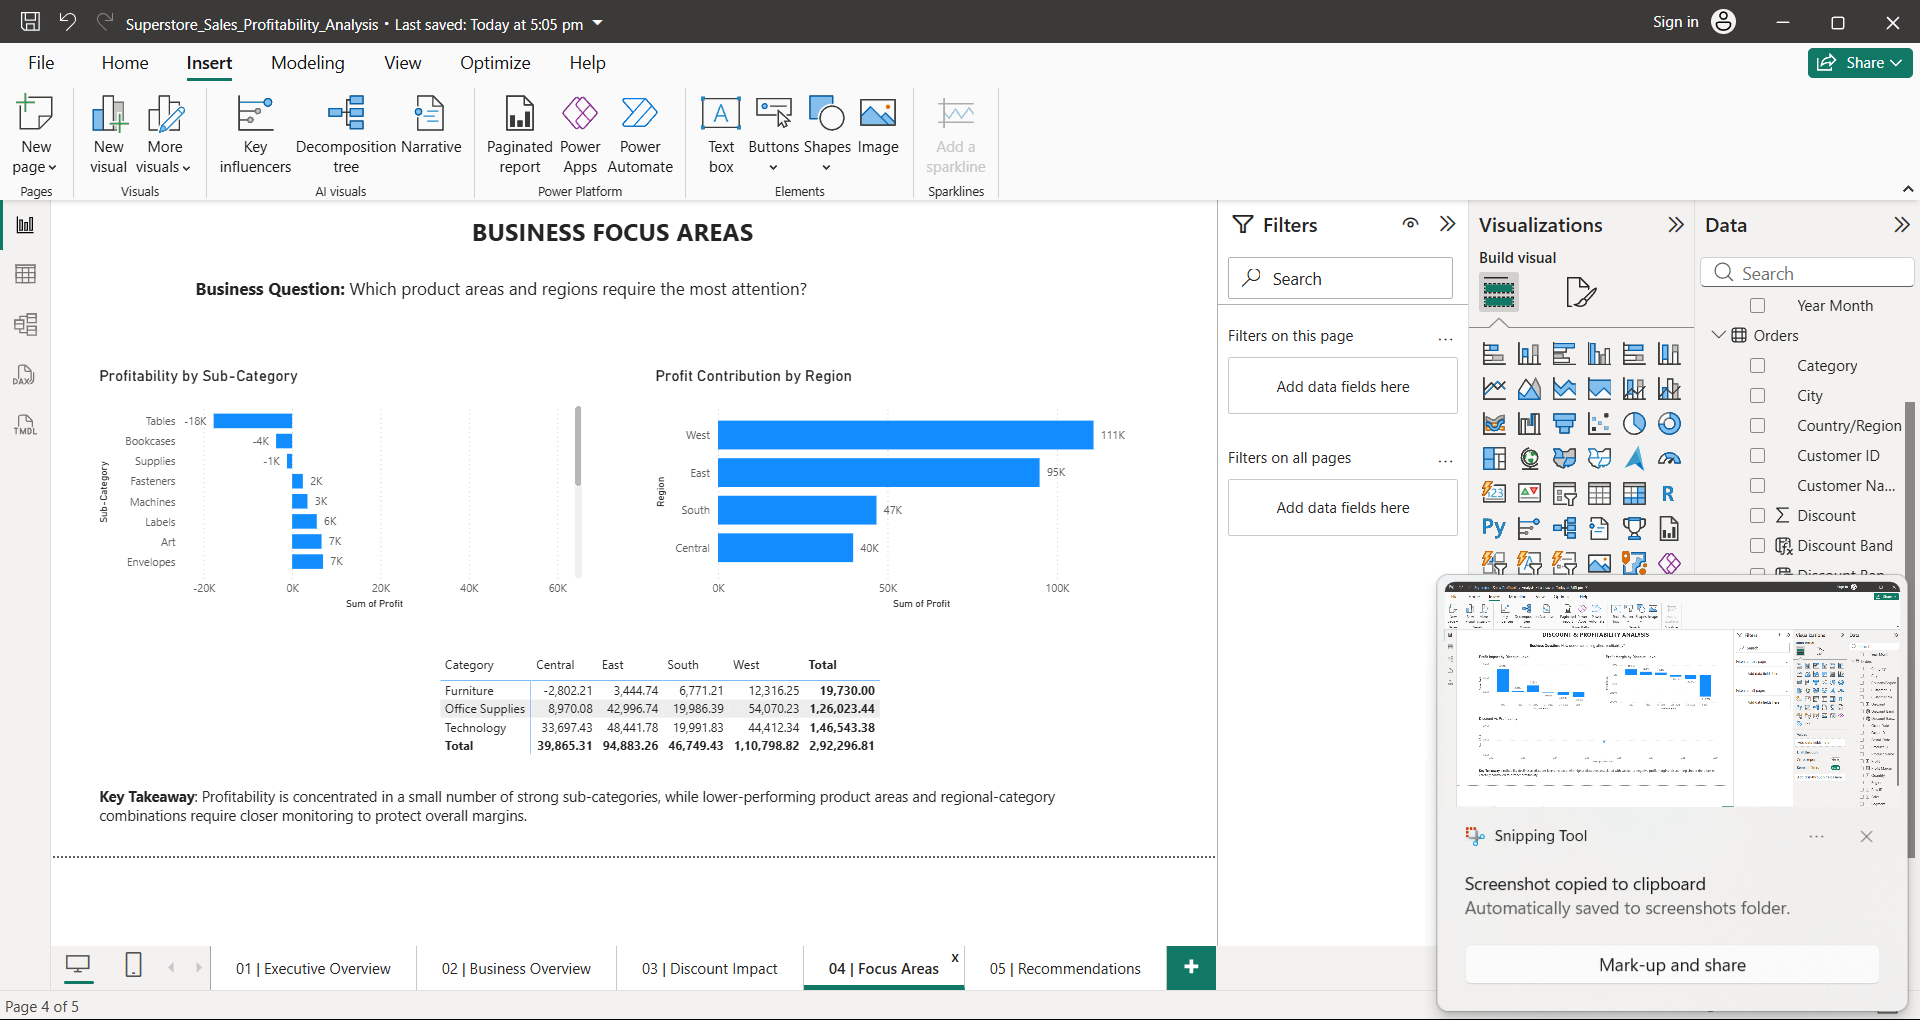

This screenshot's page, from the dashboard's own definition file:
{"tool":"powerbi","page":{"name":"04 | Focus Areas","canvas":[1280,720],"ordinal":3},"visuals":[{"type":"textbox","box":[456.9,11,402.1,46.7],"z":0},{"type":"textbox","box":[153.7,79.6,695.7,46.7],"z":1},{"type":"clusteredBarChart","title":"Profitability by Sub-Category","fields":{"Category":["Orders.Sub-Category"],"Y":["Sum(Orders.Profit)"]},"box":[48.3,182.5,540,271.7],"z":2},{"type":"clusteredBarChart","title":"Profit Contribution by Region","fields":{"Category":["Orders.Region"],"Y":["Sum(Orders.Profit)"]},"box":[658.7,182.5,540,271.7],"z":3},{"type":"pivotTable","fields":{"Rows":["Orders.Category"],"Columns":["Orders.Region"],"Values":["Sum(Orders.Profit)"]},"box":[422.6,494,495.4,131.7],"z":4},{"type":"textbox","box":[48,638.1,1151.3,63.1],"z":5}]}

Visuals, with their boxes on the page's 1280x720 design canvas (x1, y1, x2, y2). These are canvas units, not pixel positions in the 1920x1020 screenshot, which may show the page scaled, cropped or inside an application window:
textbox: box=[457, 11, 859, 58]
textbox: box=[154, 80, 849, 126]
"Profitability by Sub-Category" clusteredBarChart: box=[48, 182, 588, 454]
"Profit Contribution by Region" clusteredBarChart: box=[659, 182, 1199, 454]
pivotTable - Orders.Category x Orders.Region: box=[423, 494, 918, 626]
textbox: box=[48, 638, 1199, 701]
